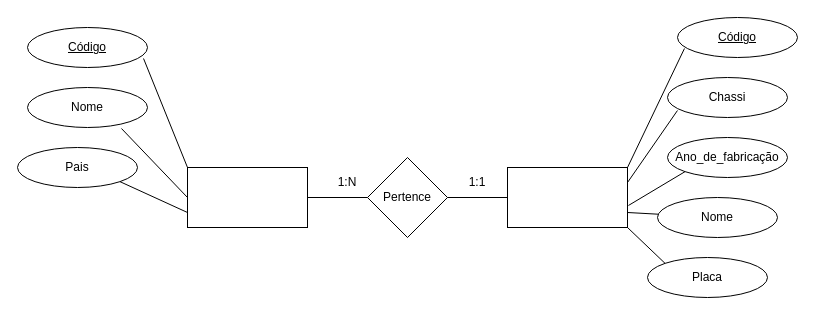
Some shapes in this 815 by 315 pixel diagram are drawn without their labels. Here are the shapes that lost their labels. From the top down, the centre of each, then its label:
At (x=247, y=197): "Marca".
At (x=567, y=197): "Modelo".
